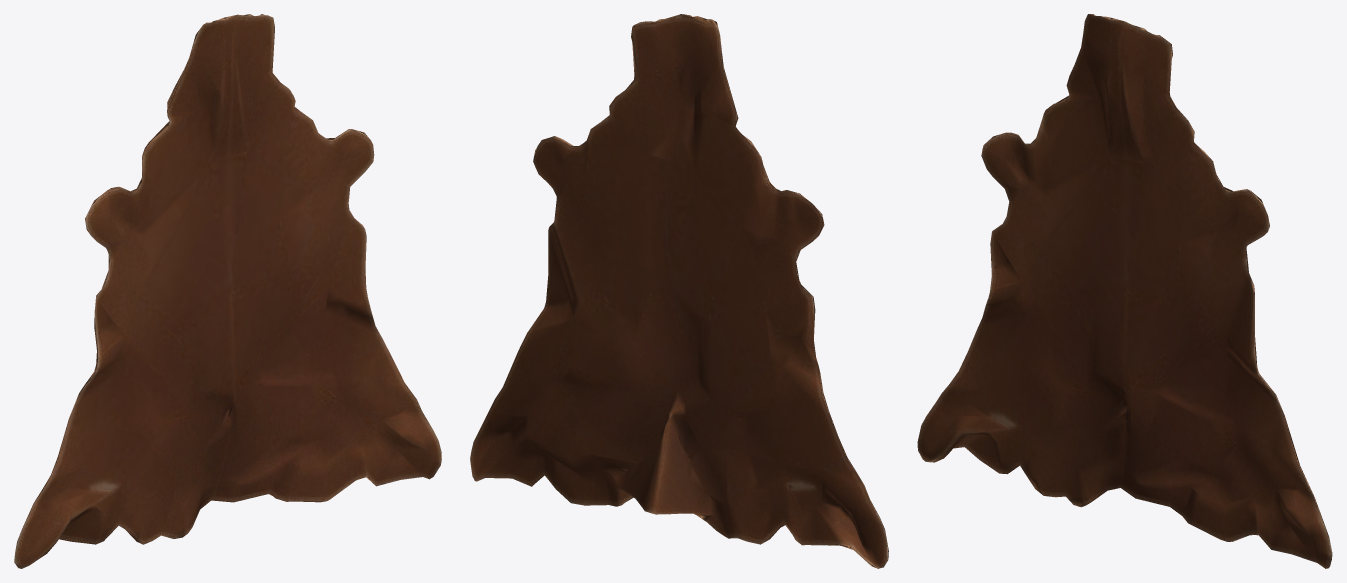
The model's file is pelt.glb.
The picture shows the model from 3 angles, left to right: view 1: azimuth 30°, elevation 25°; view 2: azimuth 150°, elevation 25°; view 3: azimuth 330°, elevation 25°; orthographic projection. The views are drawn at different scales.
Visible parts, largest first — view 1: pelt; view 2: pelt; view 3: pelt.
Part boxes in pixels (left/top/right/bottom): pelt: left=14, top=14, right=441, bottom=568; pelt: left=470, top=14, right=888, bottom=568; pelt: left=917, top=14, right=1332, bottom=568.
Size of the model in its own units: 1.2 by 1.4 by 0.1679.
Materials: 1 (1 with a texture image).
